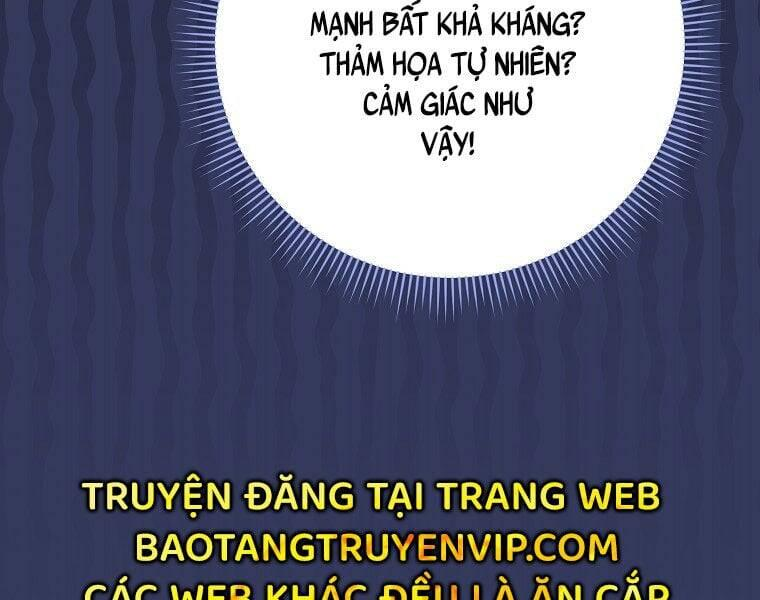quangcao: (77, 470, 673, 600)
